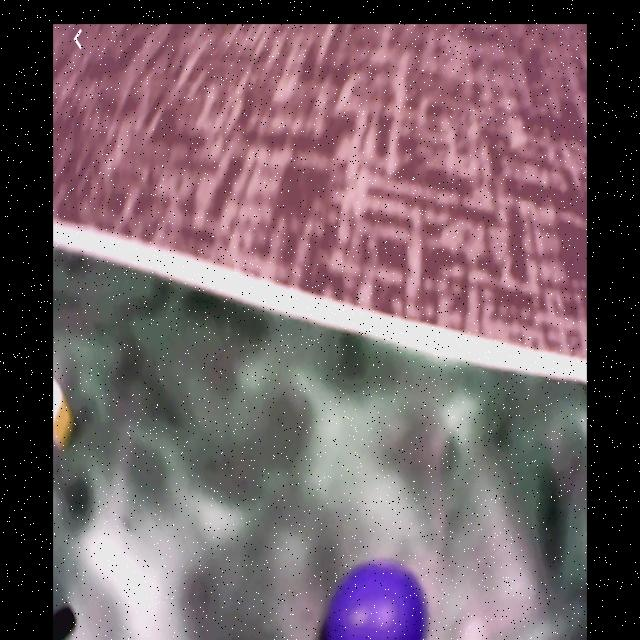ball: (321, 568, 428, 640)
